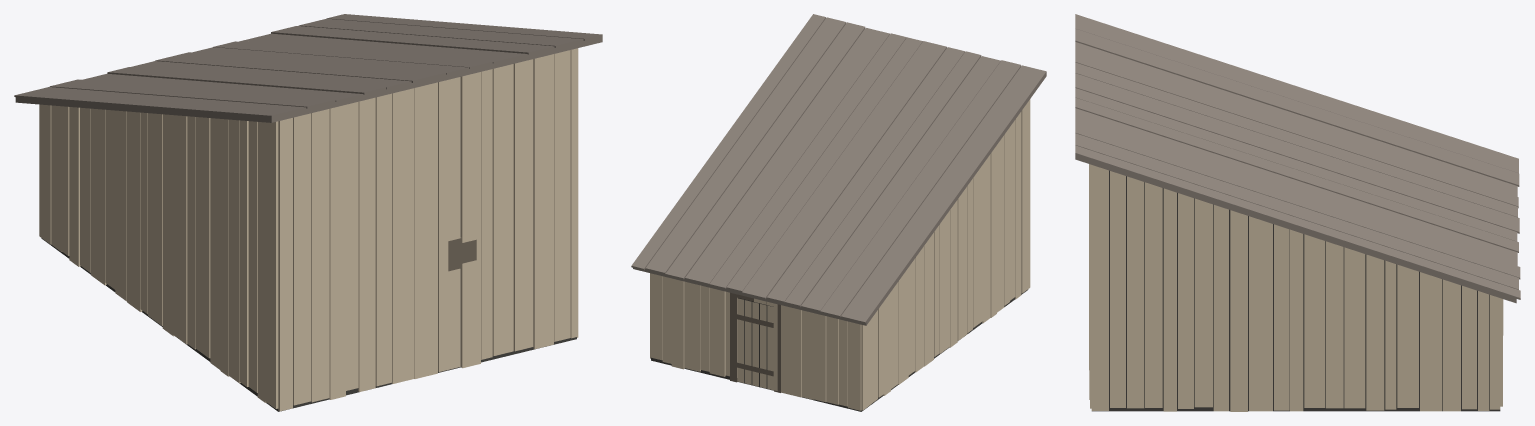
File: recon_1835_west_051__inferred_1835.glb
The picture shows the model from 3 angles, left to right: view 1: azimuth 30°, elevation 25°; view 2: azimuth 150°, elevation 25°; view 3: azimuth 270°, elevation 25°; orthographic projection. The views are drawn at different scales.
Visible parts, largest first — view 1: recon_1835_west_051__inferred_1835; view 2: recon_1835_west_051__inferred_1835; view 3: recon_1835_west_051__inferred_1835.
Boxes of the visible parts, x1,y1,x2,y2 form: recon_1835_west_051__inferred_1835: [14, 14, 602, 411]; recon_1835_west_051__inferred_1835: [631, 14, 1046, 411]; recon_1835_west_051__inferred_1835: [1075, 14, 1520, 411].
Bounding box in the file's own units: 5.41 × 4.8 × 7.3.
